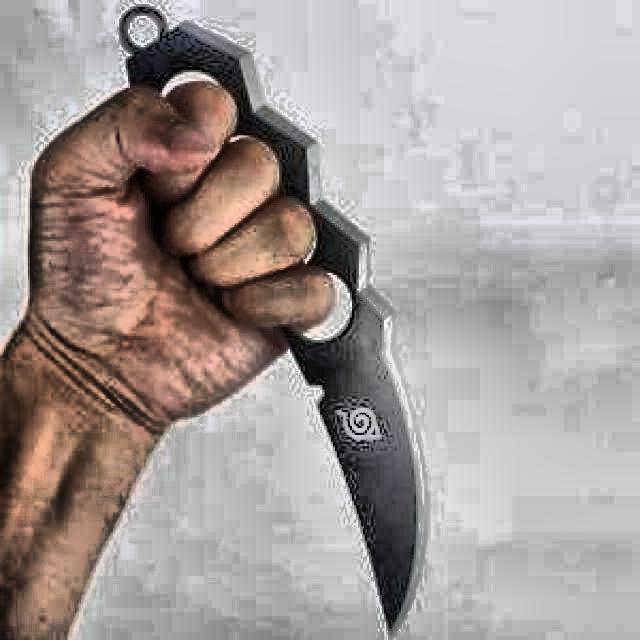knife: (121, 5, 422, 635)
